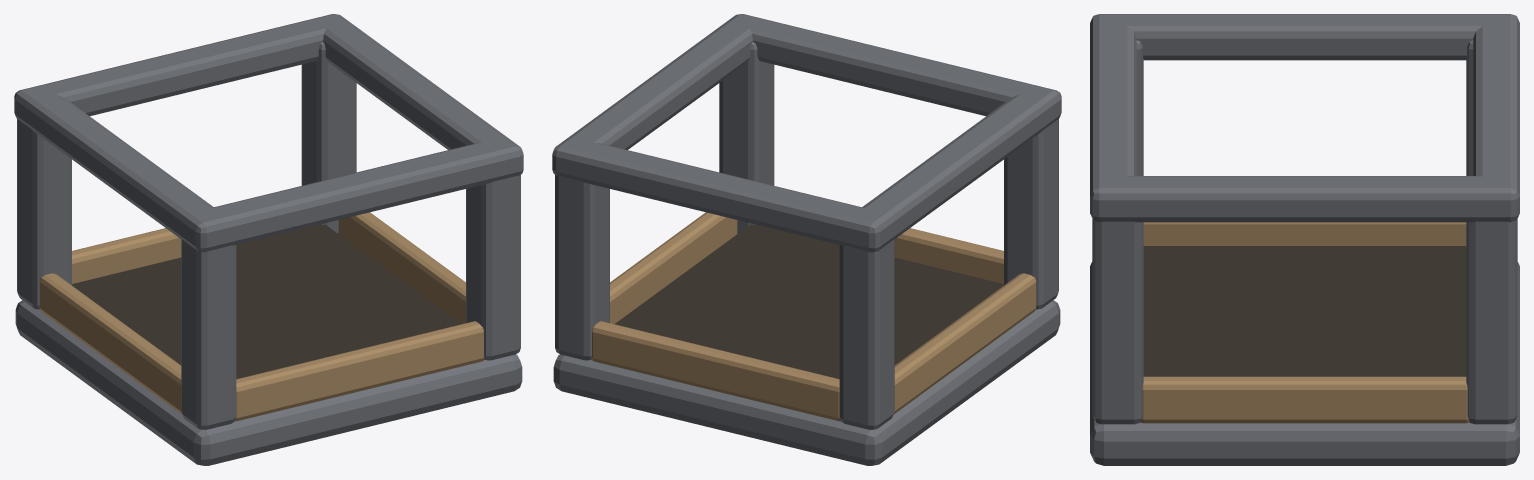
File: storage.glb
The picture shows the model from 3 angles, left to right: view 1: azimuth 30°, elevation 25°; view 2: azimuth 150°, elevation 25°; view 3: azimuth 270°, elevation 25°; orthographic projection. The views are drawn at different scales.
Parts seen in each view (by area): view 1: inner_floor, base, rim.001, rim, curb.001, post, rim.003, rim.002, post.002, post.001, curb.003, post.003 (+2 smaller); view 2: inner_floor, base, rim, rim.001, curb, post.001, rim.003, post.003, rim.002, post, curb.003, post.002 (+2 smaller); view 3: inner_floor, base, rim.002, rim.003, curb.002, post.002, post.003, rim.001, rim, curb.003, post, post.001.
Part boxes in pixels (x1,y1,x2,y2): inner_floor: (72, 224, 461, 378); base: (15, 300, 522, 465); rim.001: (183, 137, 523, 252); rim: (14, 14, 351, 126); curb.001: (235, 321, 484, 421); post: (181, 239, 236, 429); rim.003: (15, 85, 228, 250); rim.002: (317, 14, 519, 176); post.002: (466, 175, 520, 360); post.001: (17, 119, 71, 309); curb.003: (39, 273, 182, 414); post.003: (301, 42, 356, 233); inner_floor: (614, 224, 1003, 378); base: (553, 300, 1060, 465); rim: (552, 137, 892, 252); rim.001: (724, 14, 1061, 124); curb: (591, 321, 840, 421); post.001: (839, 239, 894, 429); rim.003: (847, 85, 1060, 248); post.003: (555, 175, 609, 360); rim.002: (556, 14, 761, 180); post: (1004, 119, 1058, 309); curb.003: (893, 273, 1036, 414); post.002: (719, 42, 774, 233); inner_floor: (1143, 246, 1466, 376); base: (1090, 262, 1519, 465); rim.002: (1091, 176, 1519, 222); rim.003: (1090, 14, 1519, 60); curb.002: (1140, 376, 1469, 423); post.002: (1092, 219, 1143, 424); post.003: (1466, 219, 1517, 424); rim.001: (1090, 14, 1136, 222); rim: (1473, 14, 1519, 222); curb.003: (1143, 222, 1466, 245); post: (1136, 40, 1143, 175); post.001: (1466, 40, 1473, 175).
Bounding box in the file's own units: 0.92 × 0.66 × 0.92.
